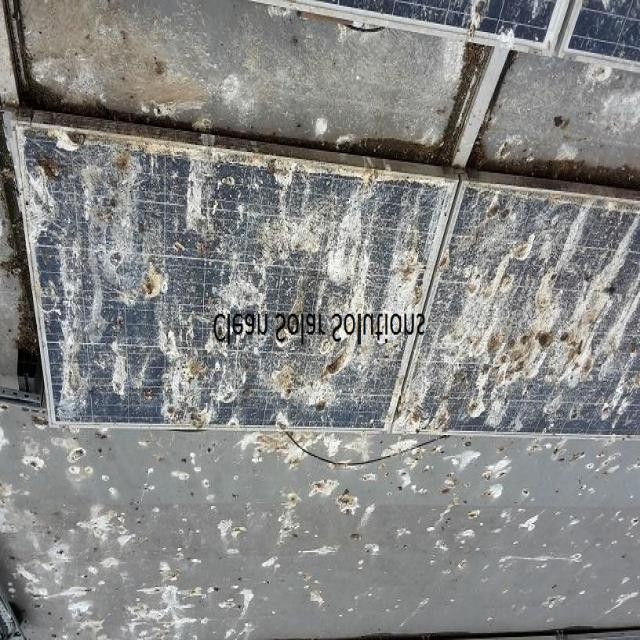soiled: (23, 128, 638, 436), (295, 1, 640, 77)
